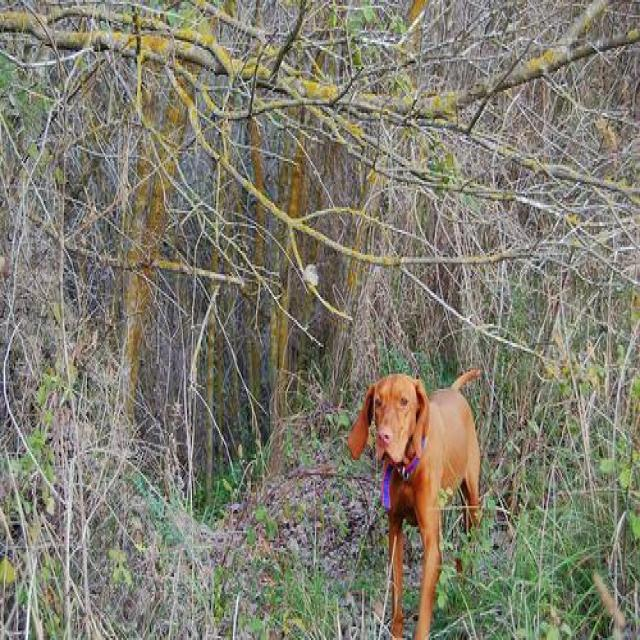vizsla: (344, 362, 488, 638)
